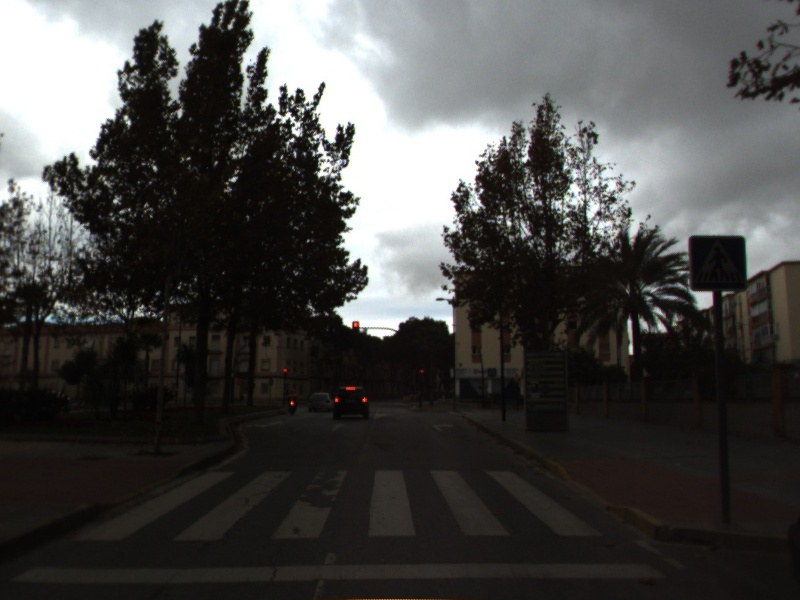RIGHT: (429, 421, 457, 434)
STRAIGHT: (328, 421, 347, 433)
STRAIGHT_LEFT: (245, 419, 284, 430)
